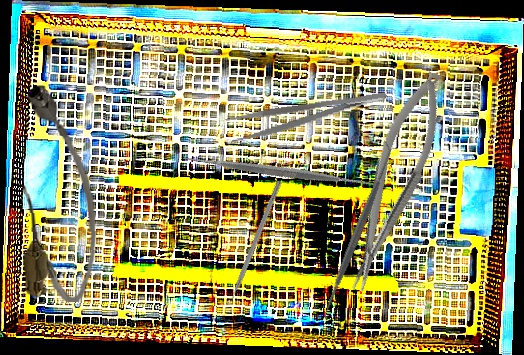Cannula: (13, 82, 101, 305)
Chopper: (218, 177, 283, 310)
Dressing Forceps: (224, 88, 391, 144)
Needle Holder: (327, 65, 461, 297)
Spatula Surgical: (179, 72, 379, 270), (312, 140, 403, 323)
